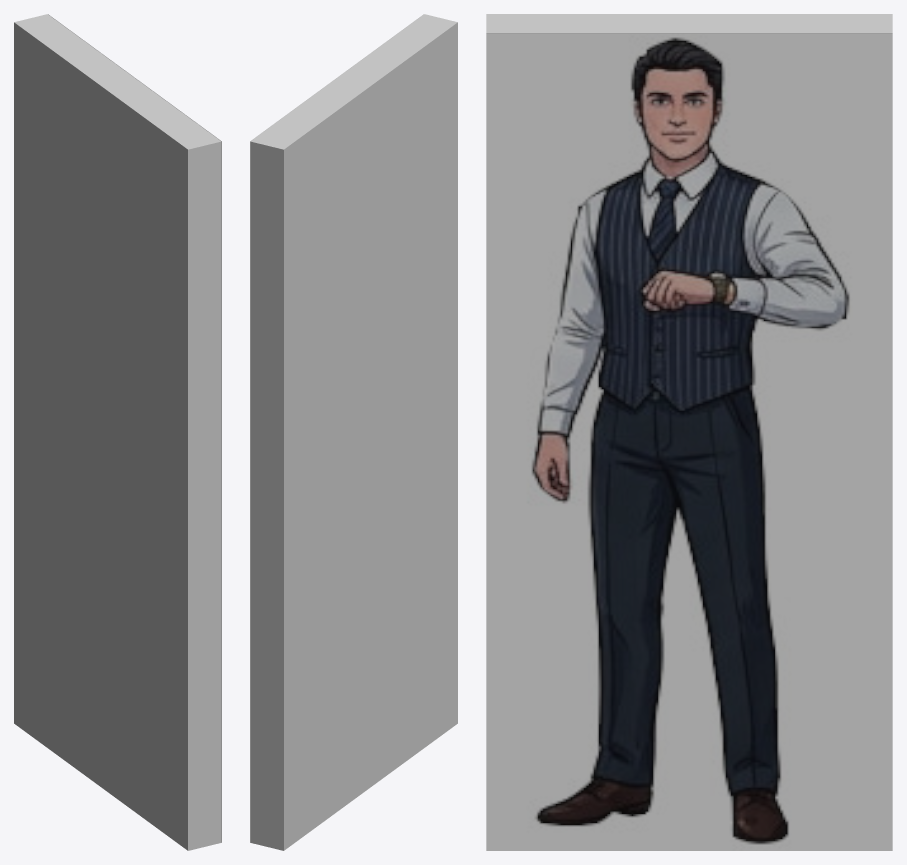
3 views of the same model, side by side, from view 1: azimuth 30°, elevation 25°; view 2: azimuth 150°, elevation 25°; view 3: azimuth 270°, elevation 25° (orthographic). The views are drawn at different scales.
Visible parts, largest first — view 1: 立方体, 平面; view 2: 立方体, 平面; view 3: 平面, 立方体.
Part boxes in pixels (<box>): 立方体: <box>14,14,221,850</box>; 平面: <box>48,14,221,842</box>; 立方体: <box>250,14,457,850</box>; 平面: <box>250,14,423,842</box>; 平面: <box>486,33,892,850</box>; 立方体: <box>486,14,892,33</box>.
Size of the model in its own units: 0.0101 by 0.09 by 0.2.
1 material, 1 textured.
